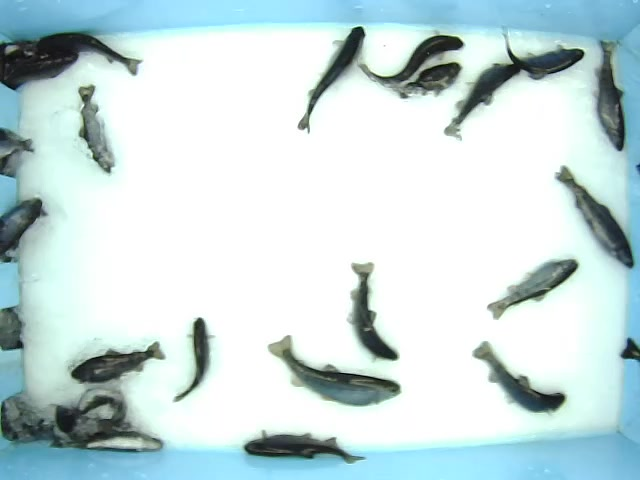fish: (267, 335, 401, 407), (553, 164, 636, 268), (296, 27, 369, 133), (471, 341, 565, 414), (356, 30, 467, 84), (443, 60, 515, 140), (486, 257, 577, 320), (345, 262, 400, 362), (243, 430, 368, 467), (69, 341, 167, 384), (503, 30, 584, 79), (590, 38, 624, 152), (172, 316, 215, 401), (77, 85, 118, 174), (391, 62, 459, 101), (51, 432, 165, 452)
